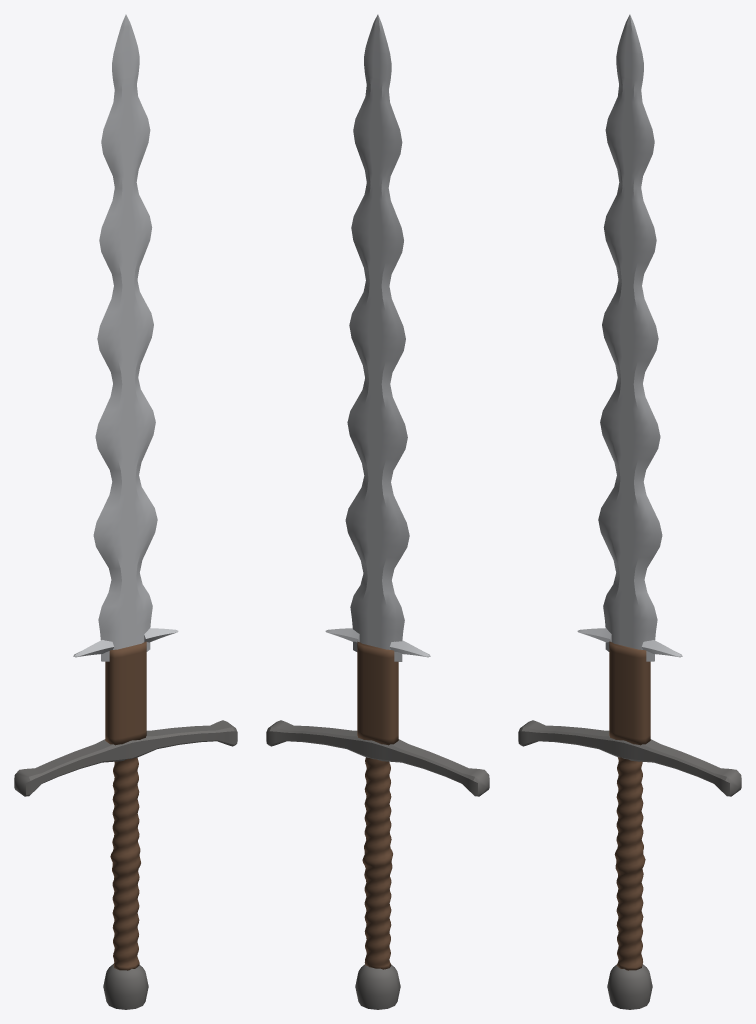
Rendered from flambard.glb.
3 renders of one model, left to right at view 1: azimuth 30°, elevation 25°; view 2: azimuth 150°, elevation 25°; view 3: azimuth 330°, elevation 25°, orthographic.
Parts seen in each view (by area): view 1: flambard; view 2: flambard; view 3: flambard.
Part boxes in pixels (bbox=[...]): flambard: bbox=[14, 14, 237, 1009]; flambard: bbox=[266, 14, 489, 1009]; flambard: bbox=[518, 14, 741, 1009].
Size of the model in its own units: 0.8 by 3.47 by 0.144.
